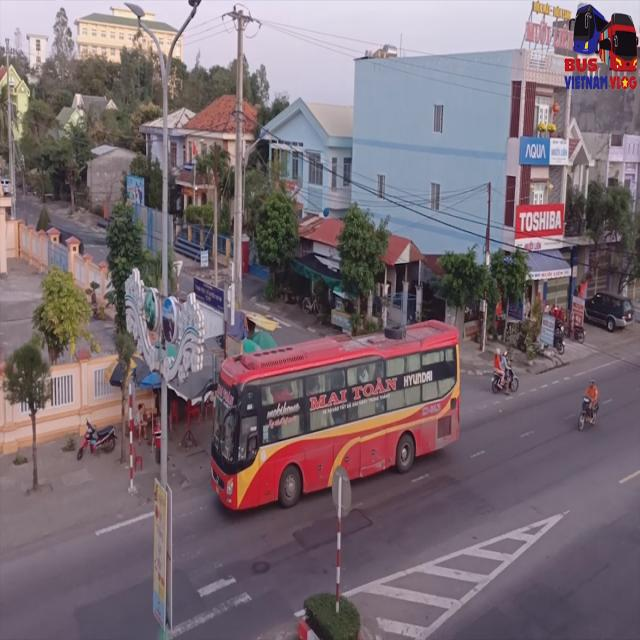bus: (215, 324, 466, 513)
car: (574, 0, 632, 31)
motorbike: (490, 348, 518, 396), (576, 377, 598, 435)
